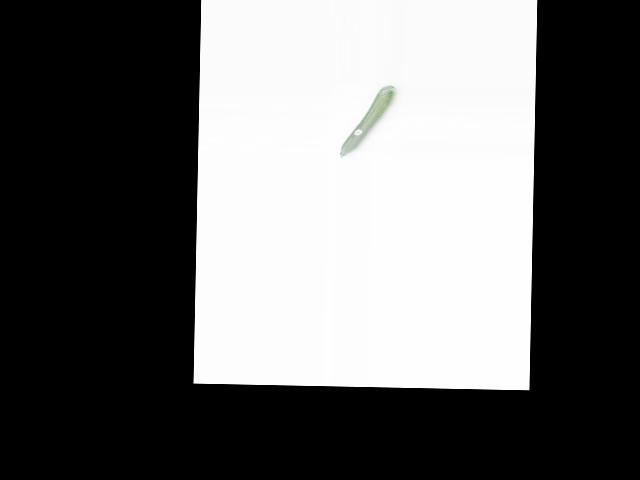cucumber: (339, 85, 395, 159)
